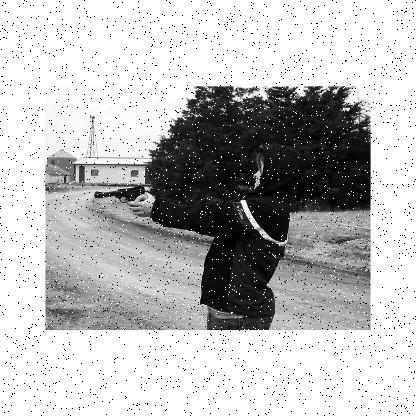gun: (92, 186, 150, 214)
